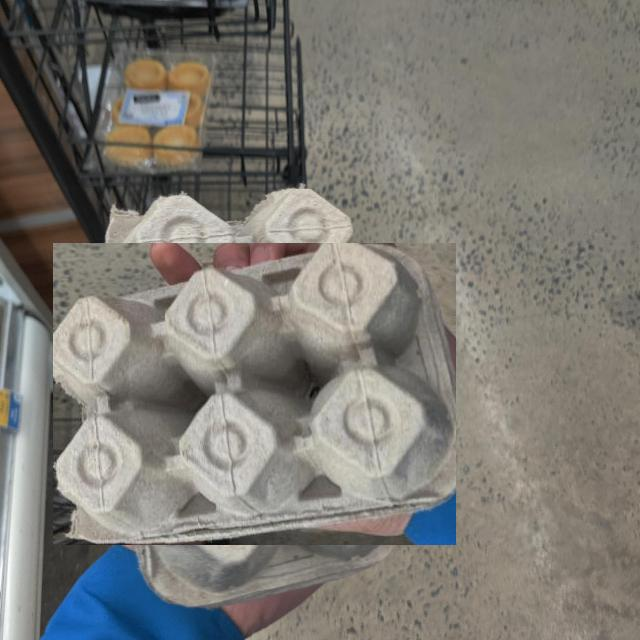Eggs: (53, 242, 456, 545)
